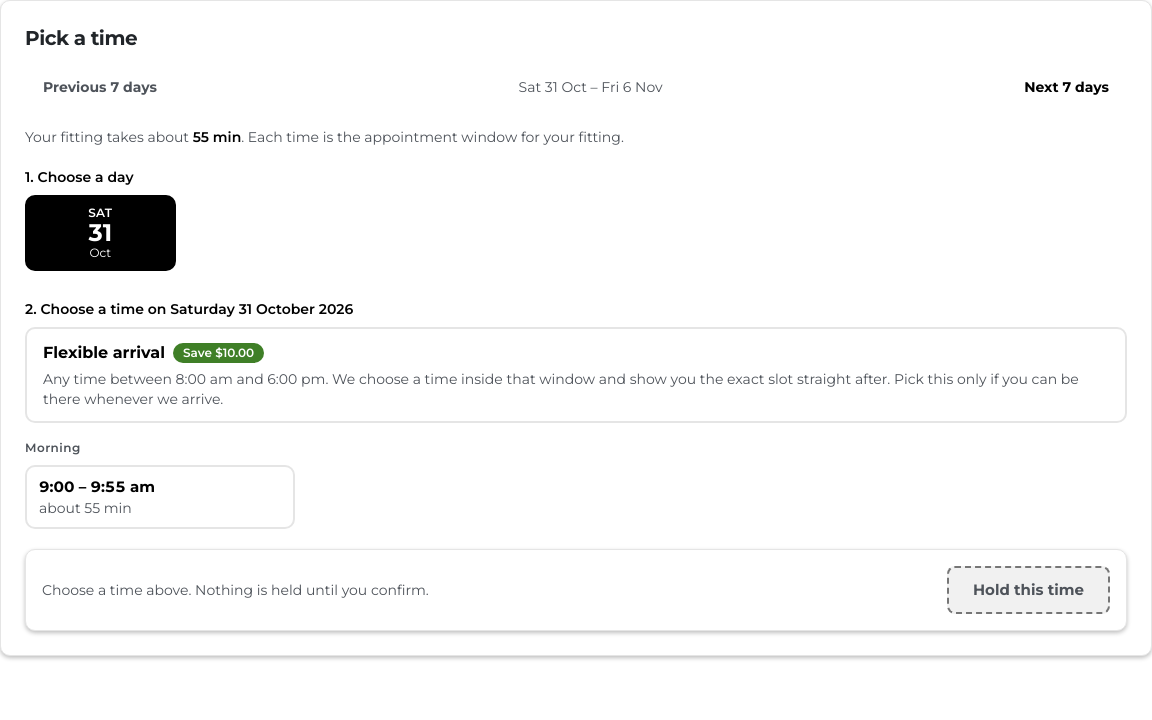
BookingFlow with flexible and promo › creates a flexible booking with no slot_start, sending the promo code
What coordinates should you click on to do the following:
click the radio button labelled "Flexible arrival"
I would click on:
 (576, 375)
Its box is [25,327,1127,423].
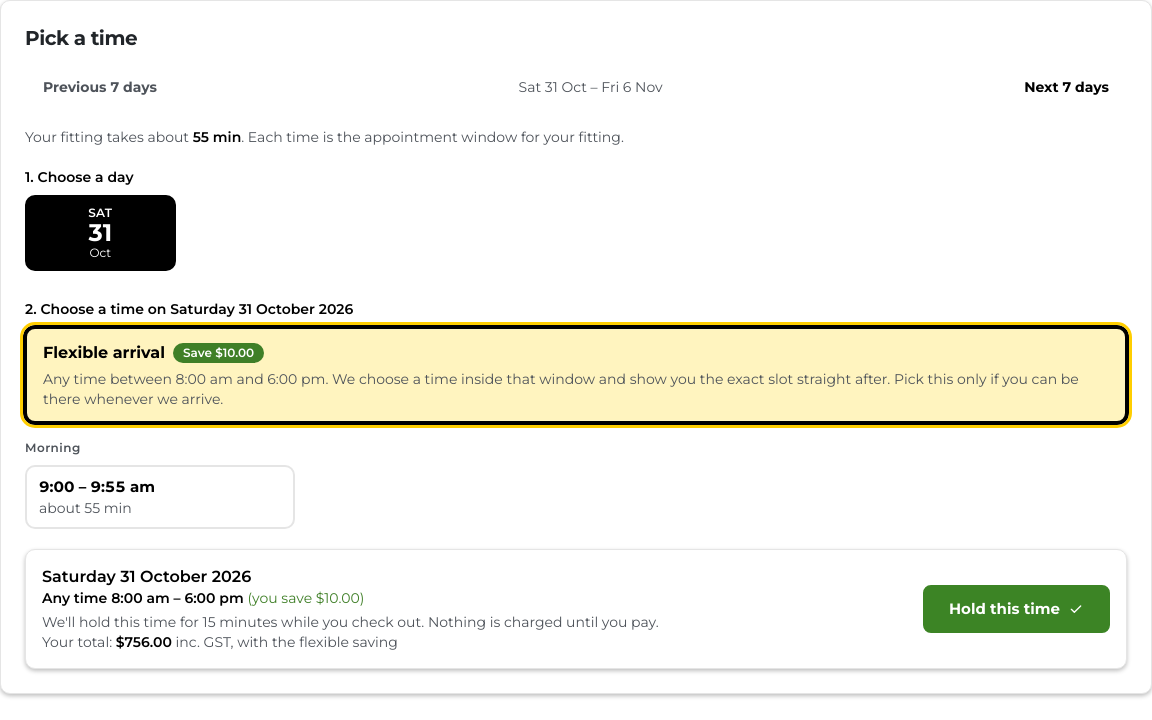
What coordinates should you click on to do the following:
click the button "Hold this time"
I would click on:
 (1016, 609)
Its box is [923,585,1110,633].
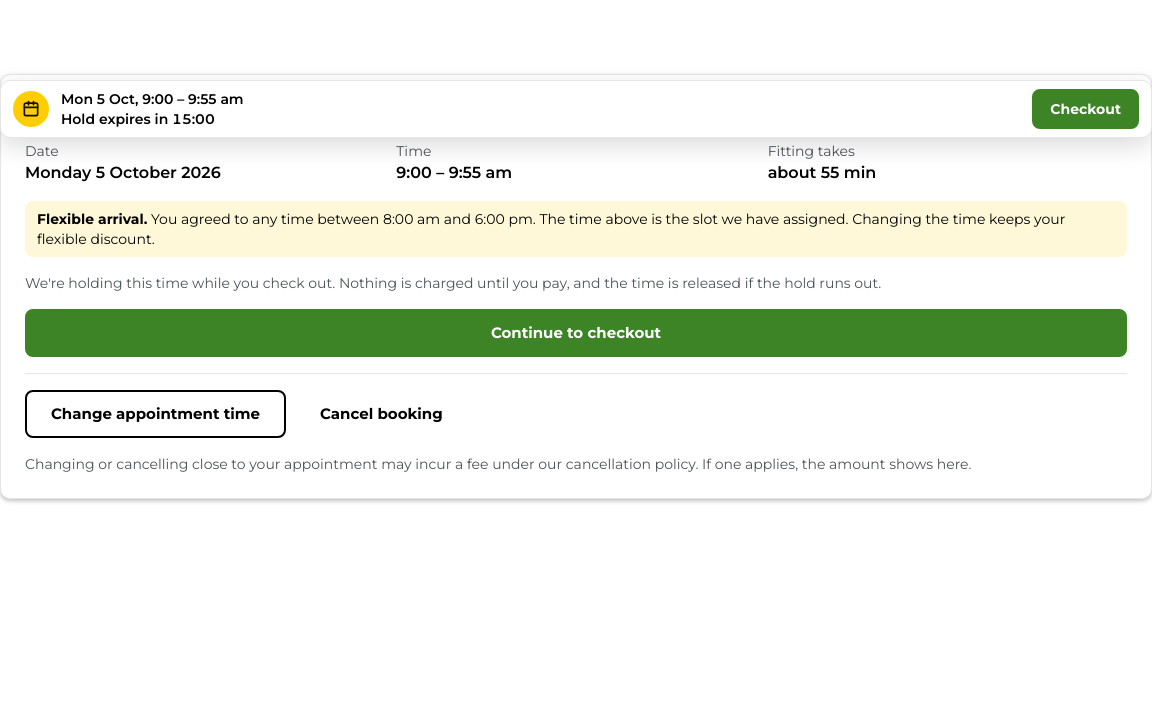
Check: the element with test id "flexible-note" shows "any time between 8:00 am and 6:00 pm", box [25,201,1127,257]
